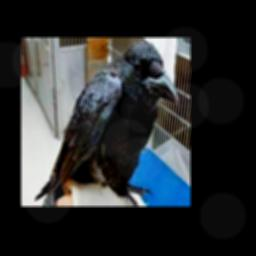Crow: (34, 40, 178, 205)
